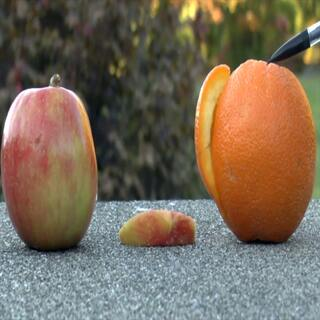apple: (3, 65, 191, 250)
orange: (195, 57, 317, 239)
